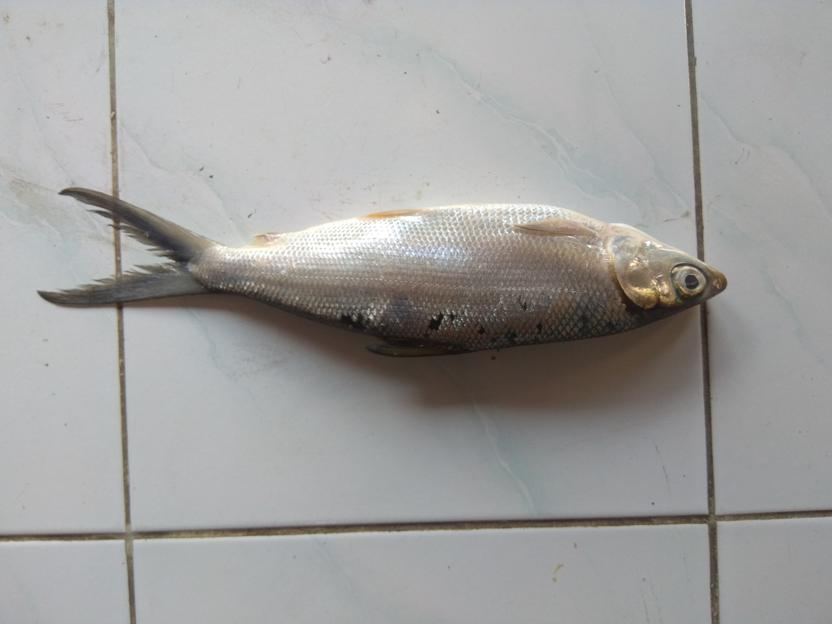Fish head: (609, 223, 730, 323)
Fish tail: (34, 184, 218, 311)
